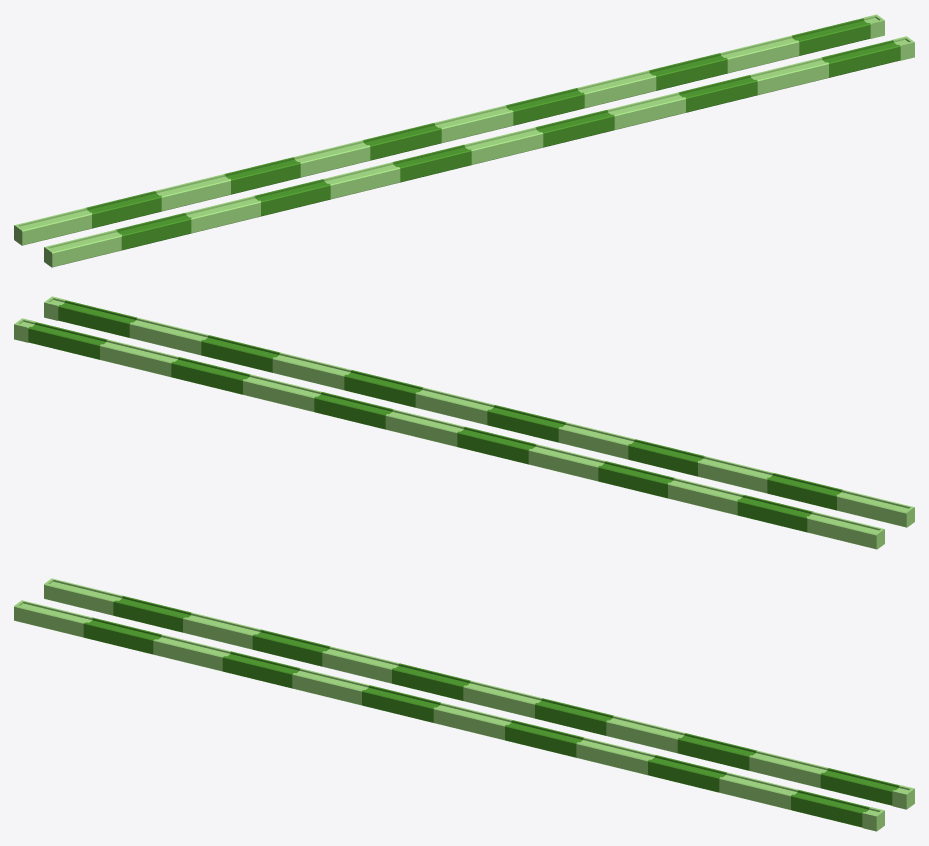
The model's file is Car_Road.fbx.
3 views of the same model, one above another, from view 1: azimuth 30°, elevation 25°; view 2: azimuth 150°, elevation 25°; view 3: azimuth 330°, elevation 25° (orthographic).
Parts seen in each view (by area): view 1: Cube, Cube.001; view 2: Cube.001, Cube; view 3: Cube.001, Cube.
Part boxes in pixels (x1,y1,x2,y2): Cube: (44,36,914,267); Cube.001: (14,14,884,245); Cube.001: (14,318,884,549); Cube: (44,296,914,527); Cube.001: (44,578,914,809); Cube: (14,600,884,831).
Bounding box in the file's own units: 2631 × 43.93 × 202.
